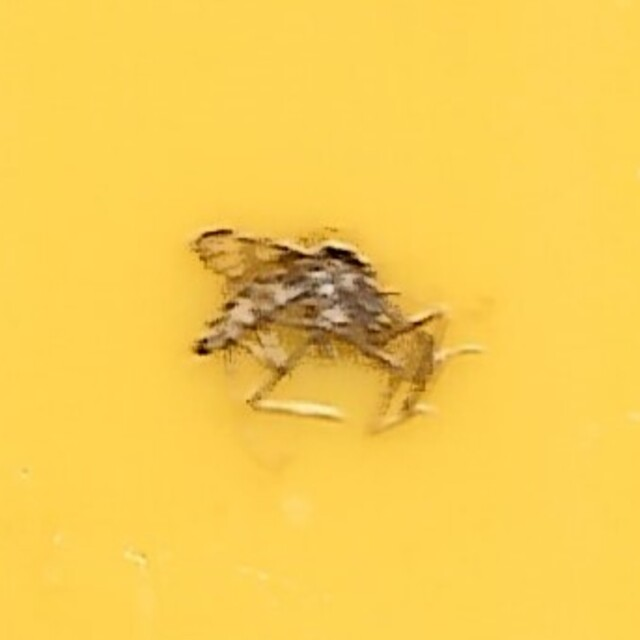Nematocera: (187, 211, 453, 429)
